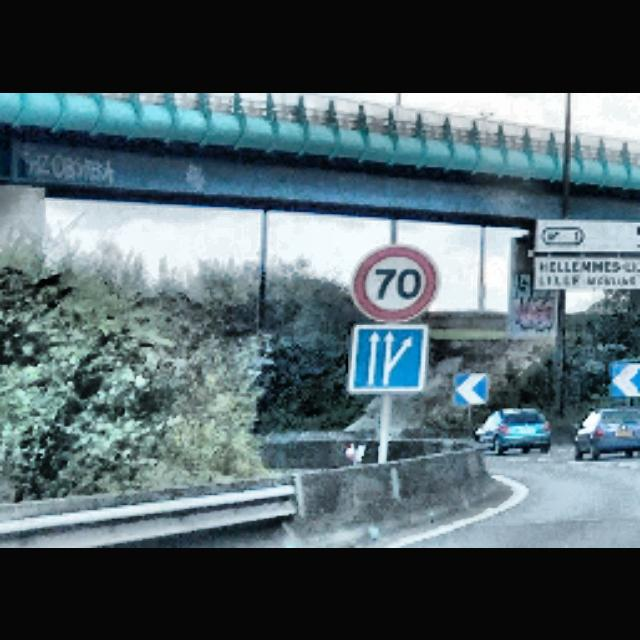speed_70: (352, 242, 441, 322)
